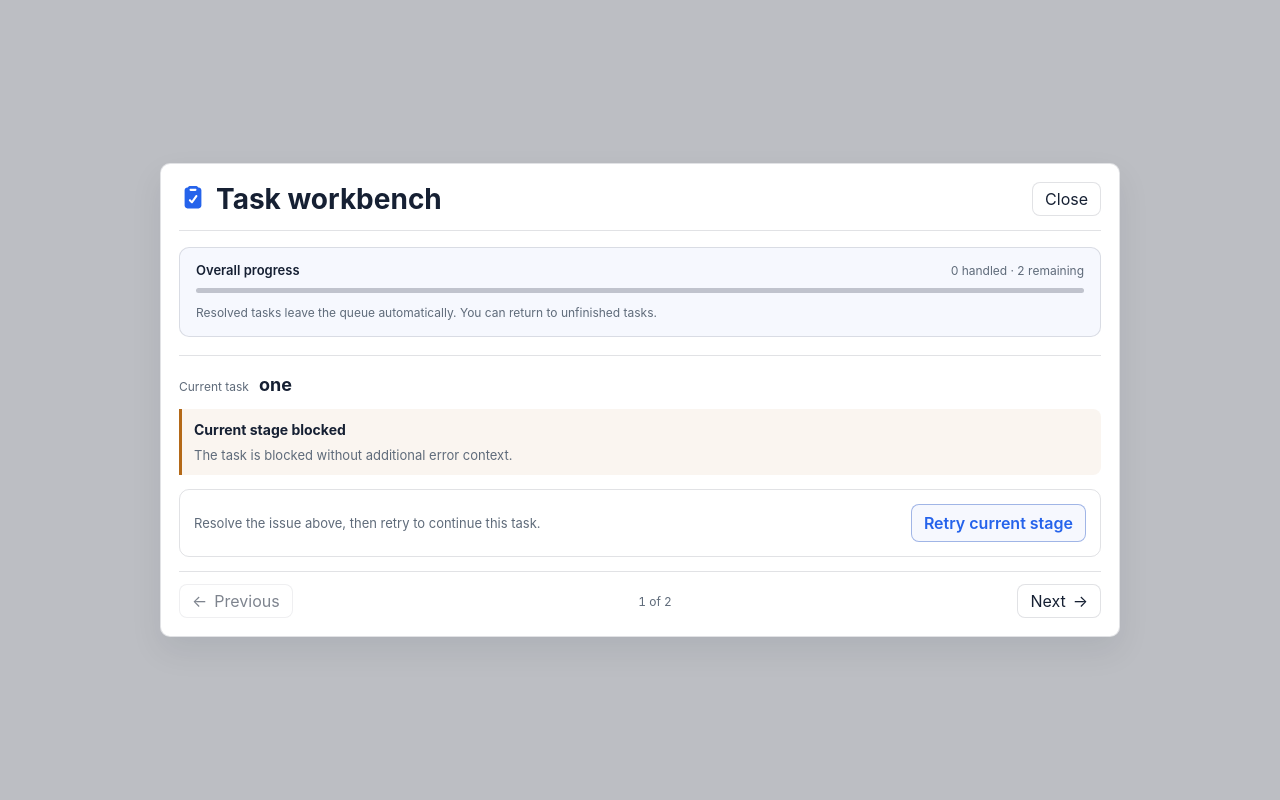
it: processing queue › keeps a failed retry on the same task and protects navigation while submitting
Click the button "Retry current stage" at [998, 524], box x1=911 y1=504 x2=1086 y2=542
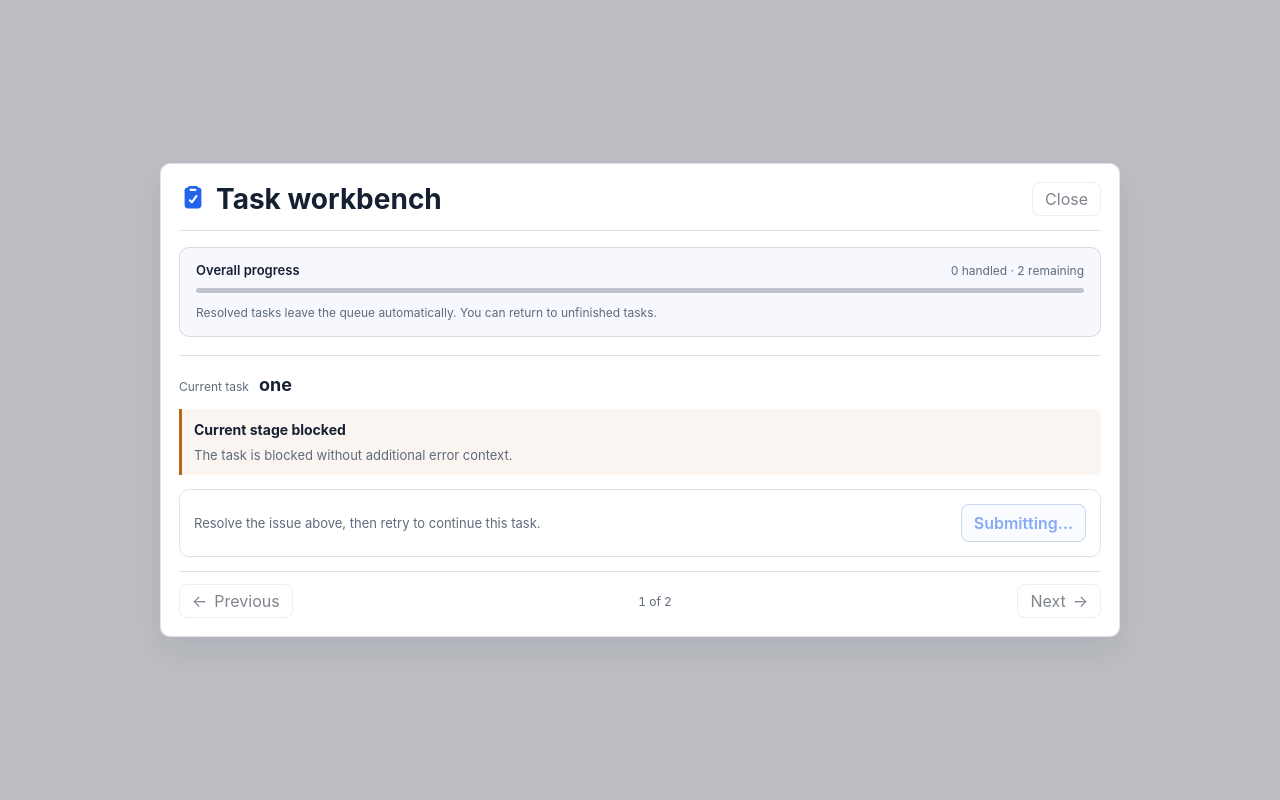
Expected: the button "Next →" is disabled, x1=1017 y1=584 x2=1101 y2=618
Expected: the button "Close" is disabled, x1=1032 y1=182 x2=1101 y2=216
Press Escape
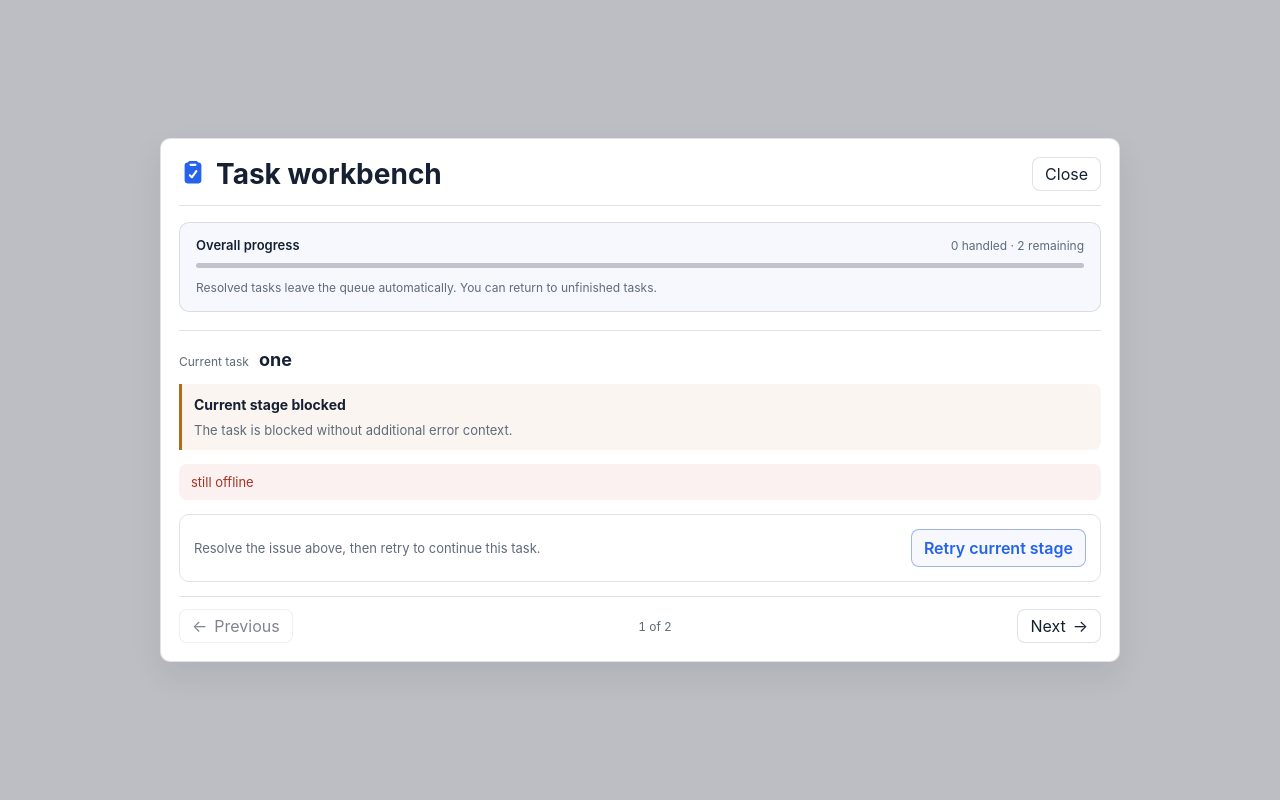
Expected: the heading "one" is shown, x1=259 y1=349 x2=292 y2=370
Expected: the message "still offline" is shown, x1=179 y1=464 x2=1101 y2=500
Expected: the button "Next →" is enabled, x1=1017 y1=610 x2=1101 y2=644
